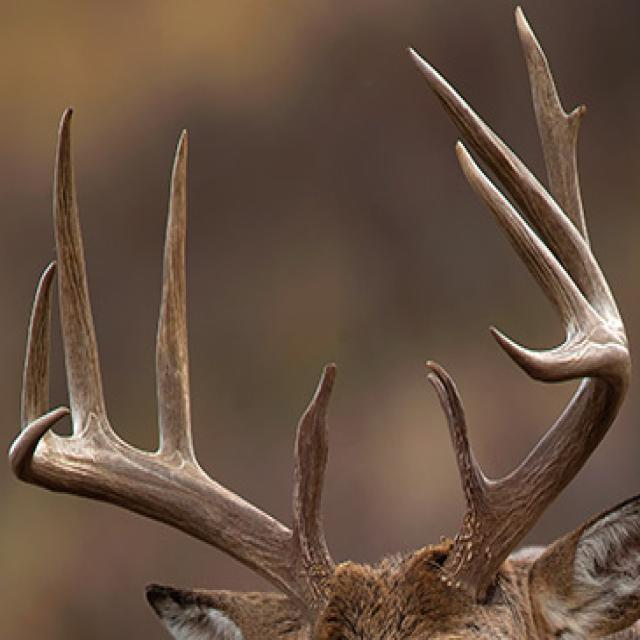L-F: (435, 322, 633, 604)
L-G1: (424, 359, 492, 511)
L-G3: (406, 41, 630, 351)
L-G4: (453, 138, 623, 344)
R-F: (8, 405, 334, 625)
R-G1: (290, 362, 339, 556)
R-G2: (154, 126, 198, 464)
R-G3: (52, 107, 118, 445)
